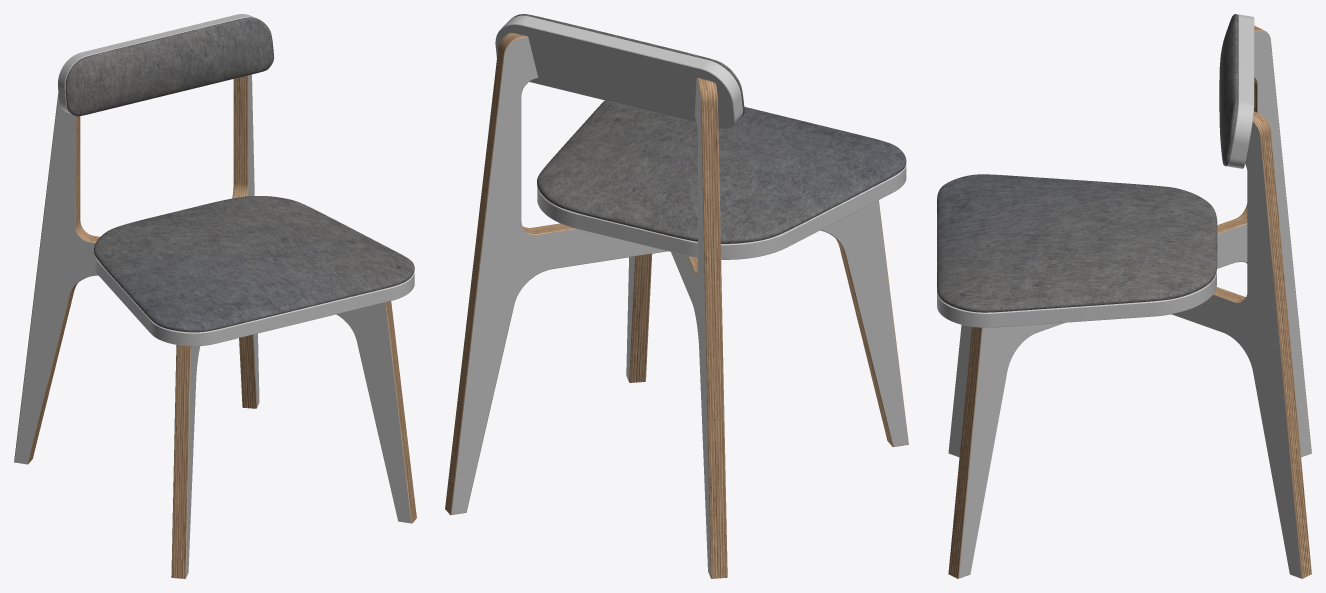
Rendered from odesd2_C4_fbx_upZ.fbx.
3 views of the same model, side by side, from view 1: azimuth 30°, elevation 25°; view 2: azimuth 150°, elevation 25°; view 3: azimuth 270°, elevation 25° (orthographic). The views are drawn at different scales.
Parts seen in each view (by area): view 1: odesd2_C4; view 2: odesd2_C4; view 3: odesd2_C4.
Part boxes in pixels (x1=…): odesd2_C4: x1=14, y1=14, x2=416, y2=578; odesd2_C4: x1=445, y1=14, x2=908, y2=578; odesd2_C4: x1=937, y1=14, x2=1311, y2=578.
Bounding box in the file's own units: 49.31 × 57.61 × 77.23.
